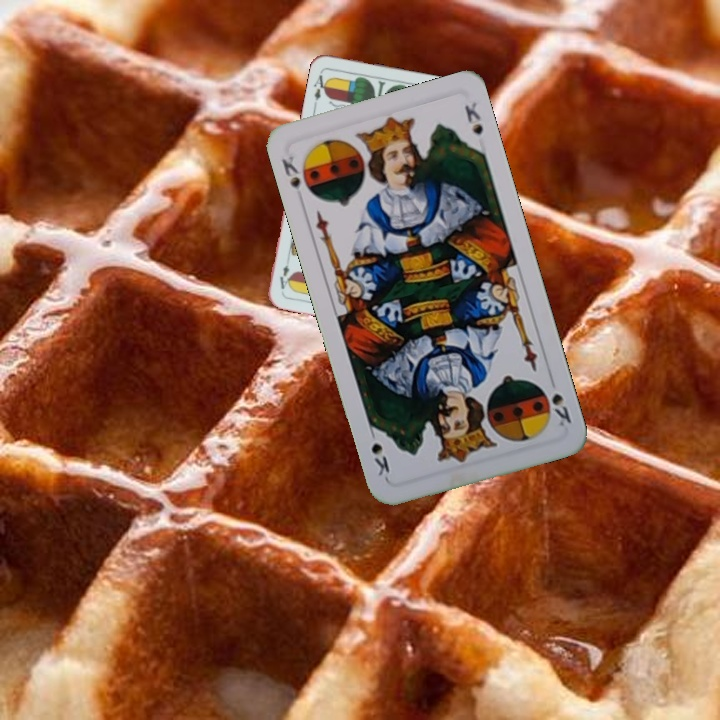EA: (309, 67, 331, 108)
SK: (277, 152, 315, 206), (547, 389, 574, 429)
